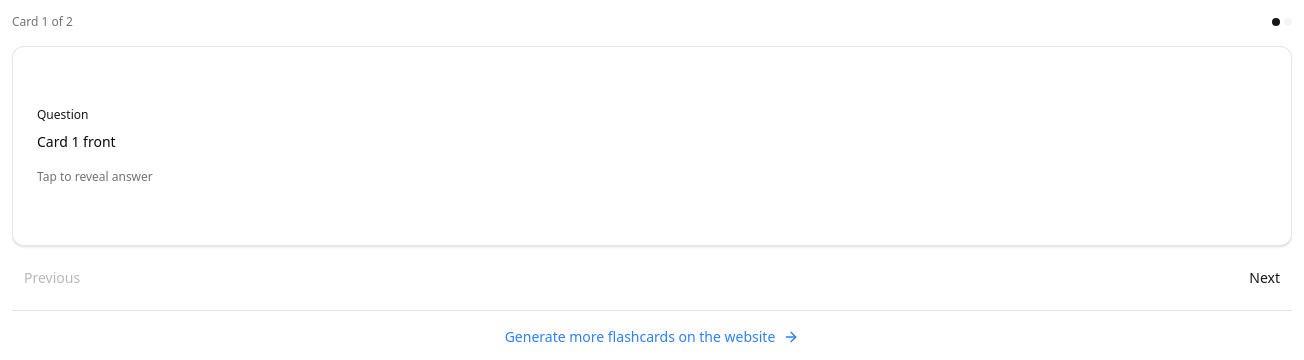
it: FlashcardView › navigation › resets flip state when navigating to next card
Note: Flip first card
Click the button with aria-label "show answer".
click(652, 234)  # box [12,46,1292,246]
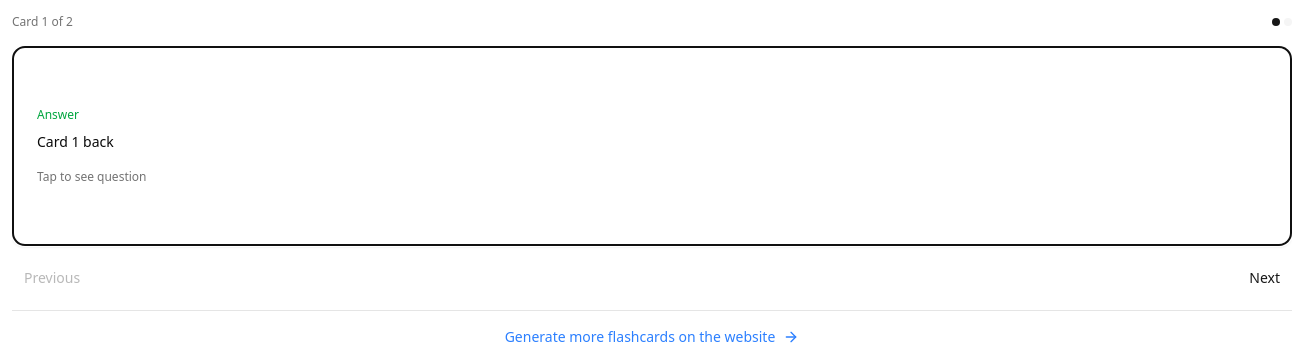
Now the text "Card 1 back" is shown, box [37,132,114,151]
Note: Navigate to next card
Click the button "Next".
click(1265, 278)  # box [1237,262,1292,294]
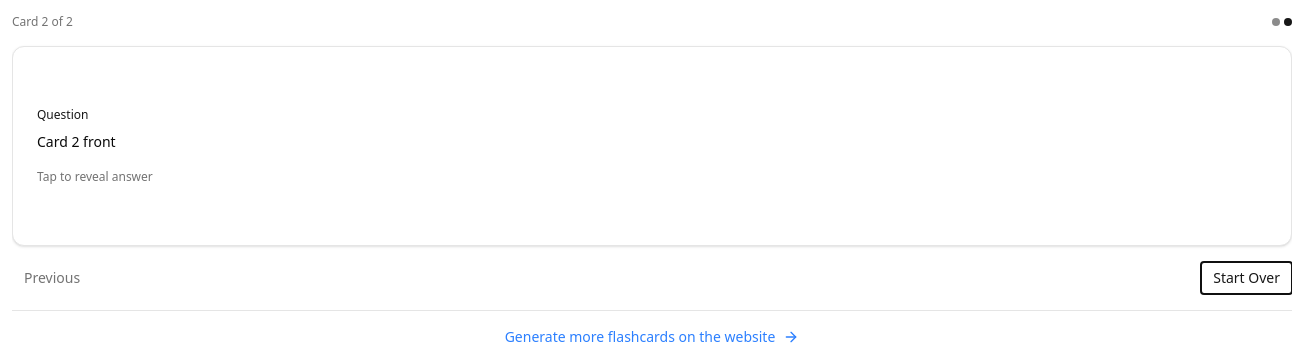
Now the text "Card 2 front" is shown, box [37,132,116,151]
Now the text "Question" is shown, box [37,106,88,123]
